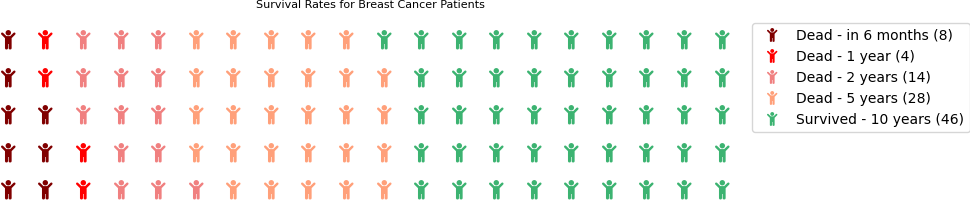

What the dashboard file says about the page in this screenshot:
{"tool":"tableau","page":{"name":"Dashboard 1","canvas":[1000,1000],"units":"permille","ordinal":0},"visuals":[{"type":"worksheet","title":"Sheet 3","mark":"Automatic","rows":["Category"],"box":[5.9,11.4,988.3,62.6]},{"type":"worksheet","title":"Sheet 2","mark":"Automatic","rows":["Component/Deliverable","Calculation_600104685618405377"],"box":[5.9,74,435.4,914.6]},{"type":"worksheet","title":"Sheet 1","mark":"Shape","rows":["Performance","Calculation_600104685617672192"],"cols":["Importance"],"box":[441.3,74,435.4,914.6]},{"type":"legend","title":"Sheet 2","param":"[federated.1sumkmq0vcyxtd1485je51e8ata2].[sum:Calculation_600104685618442242:qk]","box":[876.7,74,117.4,83.9]},{"type":"legend","title":"Sheet 2","param":"[federated.1sumkmq0vcyxtd1485je51e8ata2].[:Measure Names]","box":[876.7,157.9,117.4,89.6]},{"type":"filter","title":"Sheet 1","param":"[federated.1sumkmq0vcyxtd1485je51e8ata2].[none:Category:nk]","box":[876.7,247.5,117.4,155.1]},{"type":"legend","title":"Sheet 1","param":"[federated.1sumkmq0vcyxtd1485je51e8ata2].[none:Calculation_600104685618405377:nk","box":[768.9,779.5,102.7,106.7]}]}

Visuals, with their boxes on the dashboard's canvas, which has no fixed pixel size, in thousandths of its width and height (x1, y1, x2, y2). These are canvas units, not pixel positions in the 970x200 screenshot, which may show the page scaled, cropped or inside an application window:
"Sheet 3" worksheet: box=[6, 11, 994, 74]
"Sheet 2" worksheet: box=[6, 74, 441, 989]
"Sheet 1" worksheet (Shape marks): box=[441, 74, 877, 989]
"Sheet 2" legend: box=[877, 74, 994, 158]
"Sheet 2" legend: box=[877, 158, 994, 248]
"Sheet 1" filter: box=[877, 248, 994, 403]
"Sheet 1" legend: box=[769, 780, 872, 886]
